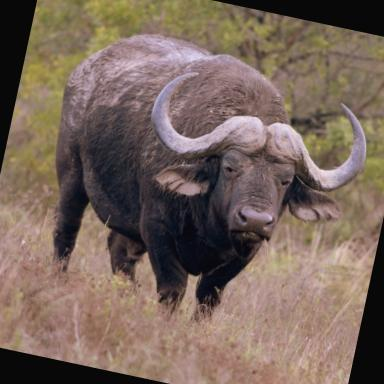Buffalo: (0, 11, 378, 384)
